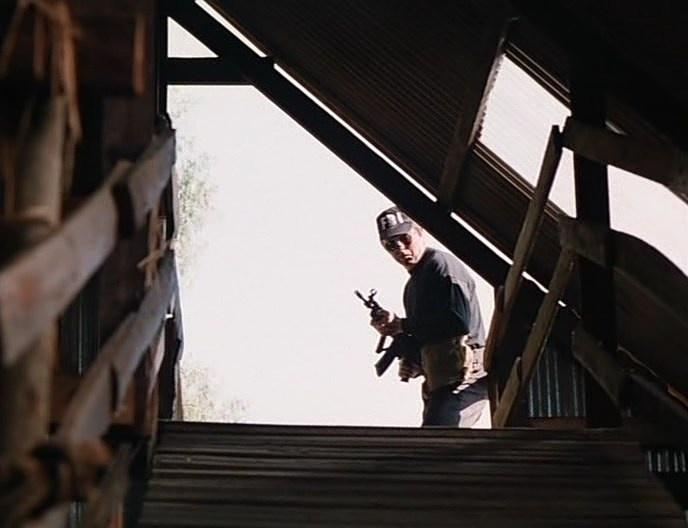gun: (337, 290, 432, 392)
